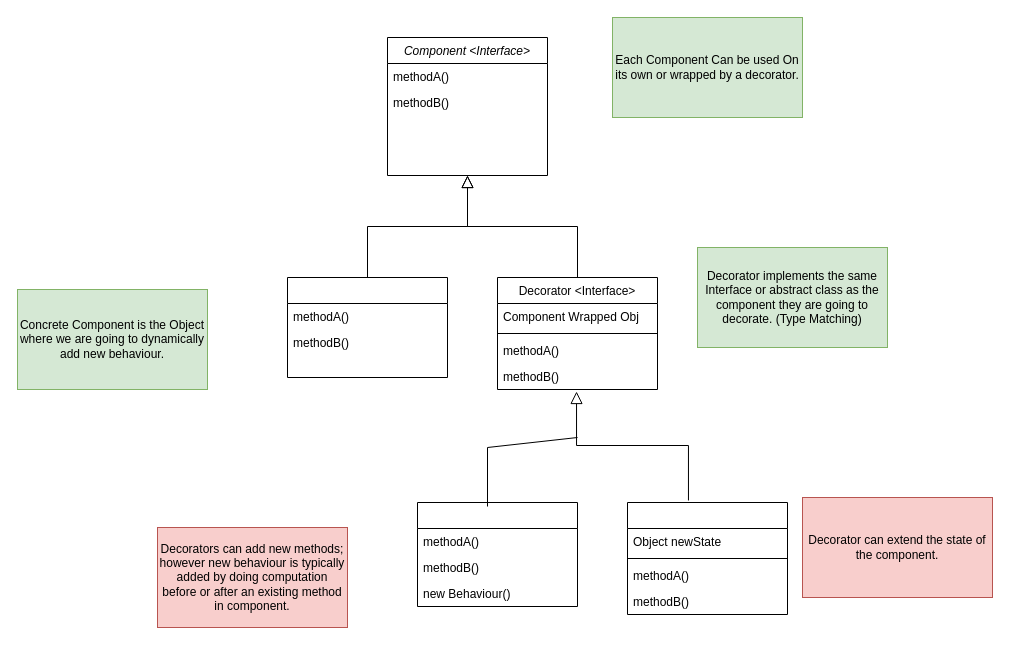
The diagram is 1010 pixels wide and 645 high, and some of its shapes have lost their labels. The shapes that lost their labels are listed below. From the top down, each one's box as (x1, y1, x2, y2) in pixels, then its label:
(286, 276, 448, 378): Concrete Component
(416, 502, 578, 606): Concrete Decorator A
(626, 502, 788, 614): Concrete Decorator B
